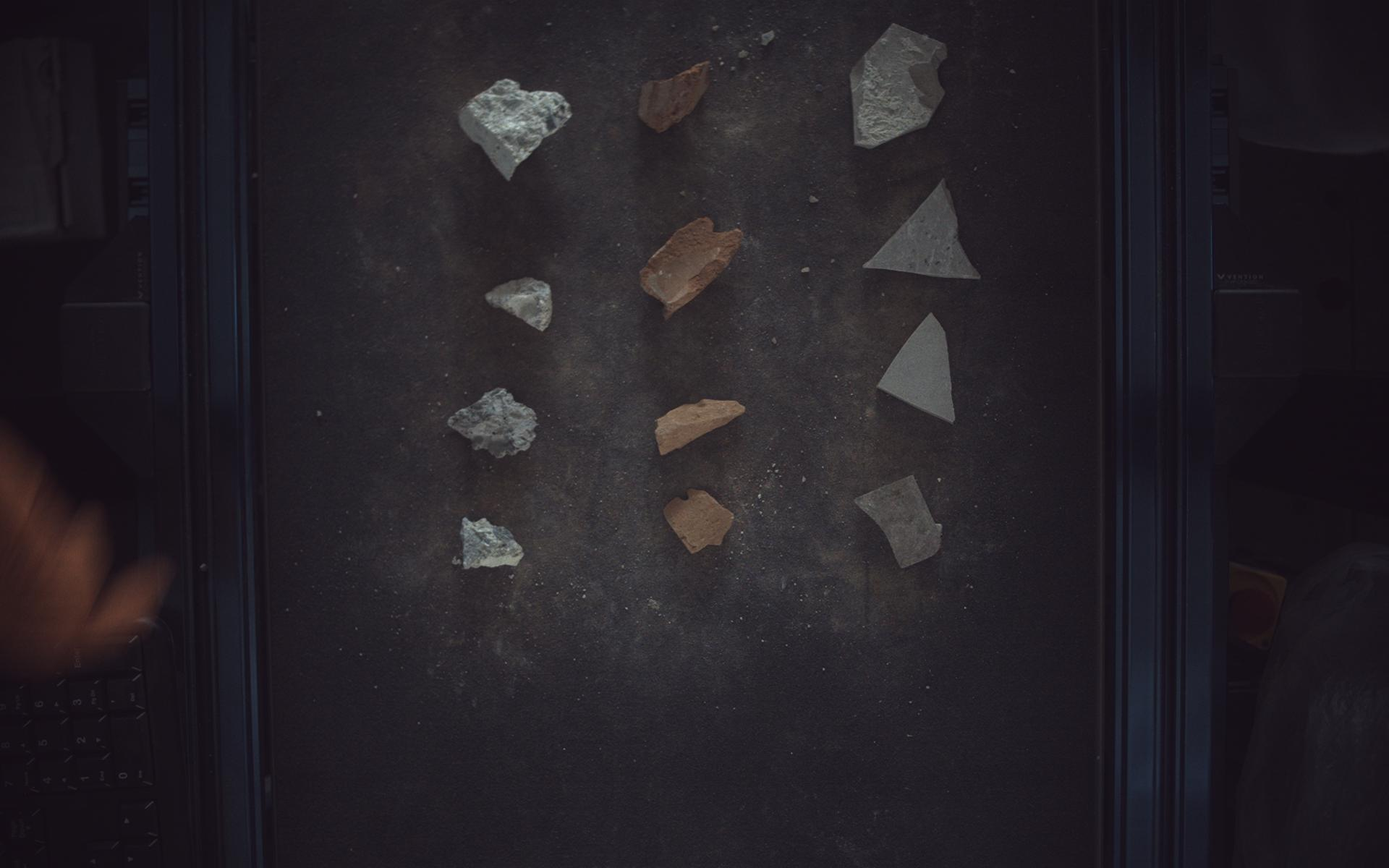brick: (641, 216, 744, 320), (656, 399, 747, 455), (640, 60, 710, 132), (665, 490, 735, 554)
concrete: (459, 78, 572, 179), (448, 388, 538, 459), (452, 518, 524, 570), (485, 277, 553, 331)
tile: (852, 22, 949, 148), (866, 179, 982, 279), (880, 312, 957, 422), (857, 476, 944, 569)
